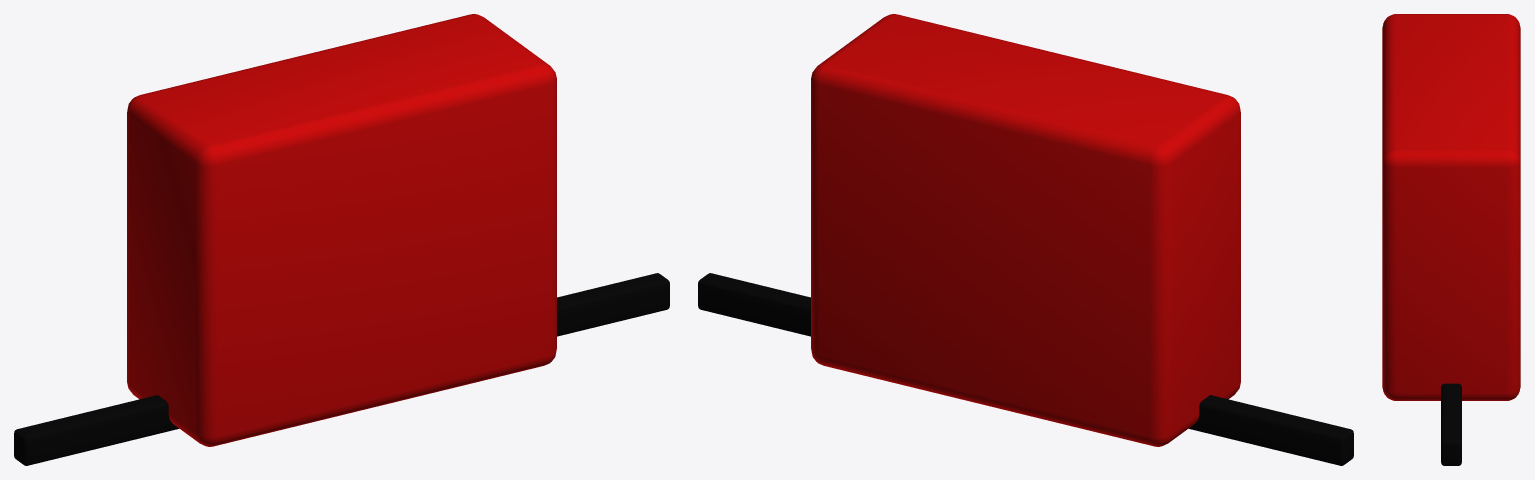
Rendered from ob_ray_vuong.fbx.
The picture shows the model from 3 angles, left to right: view 1: azimuth 30°, elevation 25°; view 2: azimuth 150°, elevation 25°; view 3: azimuth 270°, elevation 25°; orthographic projection. The views are drawn at different scales.
Parts seen in each view (by area): view 1: Cube, ray; view 2: Cube, ray; view 3: Cube, ray.
Boxes of the visible parts, box(x1,y1,x2,y2) form: Cube: box(127, 14, 556, 446); ray: box(14, 273, 669, 465); Cube: box(811, 14, 1240, 446); ray: box(698, 273, 1353, 465); Cube: box(1382, 14, 1520, 400); ray: box(1441, 383, 1461, 465).
Bounding box in the file's own units: 180 × 81 × 40.
